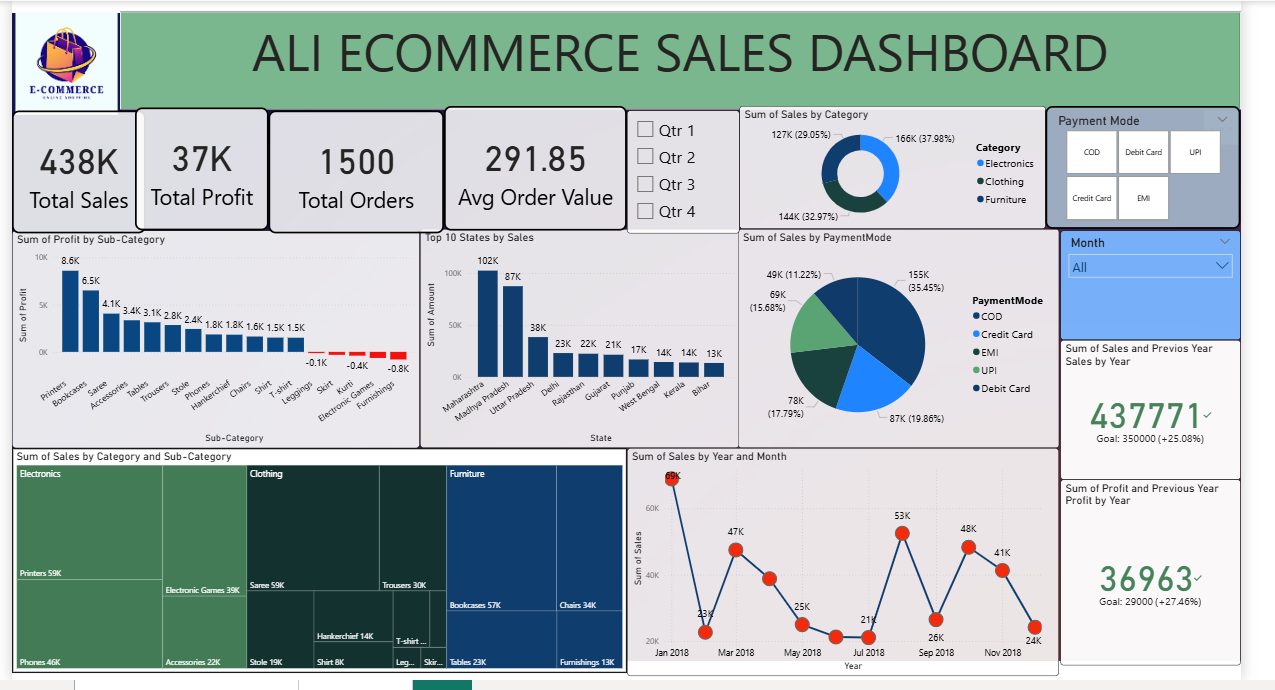

This screenshot's page, from the dashboard's own definition file:
{"tool":"powerbi","page":{"name":"SALES DASHBOARD","canvas":[1900,1050],"ordinal":0},"visuals":[{"type":"columnChart","title":"Top 10 States by Sales","fields":{"Category":["Orders.State"],"Y":["Sum(Details.Amount)"]},"box":[630.9,354.9,473.2,336.3],"z":0},{"type":"pieChart","fields":{"Category":["Details.PaymentMode"],"Y":["Sum(Details.Amount)"]},"box":[1104.1,354.9,468.6,336.3],"z":1000},{"type":"treemap","fields":{"Group":["Details.Category"],"Details":["Details.Sub-Category"],"Values":["Sum(Details.Amount)"]},"box":[0,686.6,879.1,352.6],"z":2000},{"type":"columnChart","fields":{"Category":["Details.Sub-Category"],"Y":["Sum(Details.Profit)"]},"box":[0,354.9,630.9,336.3],"z":3000},{"type":"slicer","title":"Month","fields":{"Values":["Orders.Month Name"]},"box":[1672.5,169.3,227.3,185.6],"z":4000},{"type":"textbox","box":[167,16.2,1732.8,150.8],"z":5000},{"type":"image","box":[0,9.3,167,178.6],"z":6000},{"type":"lineChart","fields":{"Y":["Sum(Details.Amount)"],"Category":["Orders.Order Date.Variation.Date Hierarchy.Year","Orders.Order Date.Variation.Date Hierarchy.Month"]},"box":[879.1,686.6,693.6,357.2],"z":7000},{"type":"donutChart","fields":{"Category":["Details.Category"],"Y":["Sum(Details.Amount)"]},"box":[1572.7,354.9,327.1,336.3],"z":8000},{"type":"card","fields":{"Values":["Sum(Details.Amount)"]},"box":[0,169.3,287.6,190.2],"z":9000},{"type":"card","fields":{"Values":["Sum(Details.Profit)"]},"box":[287.6,169.3,287.6,190.2],"z":10000},{"type":"card","fields":{"Values":["CountNonNull(Details.Order ID)"]},"box":[575.3,167,292.3,190.2],"z":11000},{"type":"slicer","fields":{"Values":["Details.PaymentMode"]},"box":[1357,164.7,315.5,194.8],"z":12000},{"type":"slicer","fields":{"Values":["Orders.Order Date.Variation.Date Hierarchy.Quarter"]},"box":[1169.1,169.3,187.9,185.6],"z":13000},{"type":"kpi","fields":{"Goal":["Orders.Previos Year Sales"],"Indicator":["Sum(Details.Amount)"],"TrendLine":["Orders.Order Date.Variation.Date Hierarchy.Year"]},"box":[1572.7,865.2,327.1,174],"z":14000},{"type":"kpi","fields":{"Indicator":["Sum(Details.Profit)"],"Goal":["Orders.Previous Year Profit"],"TrendLine":["Orders.Order Date.Variation.Date Hierarchy.Year"]},"box":[1572.7,686.6,327.1,178.6],"z":15000},{"type":"card","fields":{"Values":["Orders.Average Order Value"]},"box":[867.5,164.7,301.6,192.5],"z":16000}]}

Visuals, with their boxes in screenshot pixels (x1, y1, x2, y2), scaled from the page's 1900x1050 canvas onto the 1275x690 screenshot:
"Top 10 States by Sales" columnChart: <region>423, 233, 741, 454</region>
pieChart - Details.PaymentMode x Sum(Details.Amount): <region>741, 233, 1055, 454</region>
treemap - Details.Category x Details.Sub-Category: <region>0, 451, 590, 683</region>
columnChart - Details.Sub-Category x Sum(Details.Profit): <region>0, 233, 423, 454</region>
"Month" slicer: <region>1122, 111, 1274, 233</region>
textbox: <region>112, 11, 1274, 110</region>
image: <region>0, 6, 112, 123</region>
lineChart - Sum(Details.Amount) x Orders.Order Date.Variation.Date Hierarchy.Year: <region>590, 451, 1055, 686</region>
donutChart - Details.Category x Sum(Details.Amount): <region>1055, 233, 1274, 454</region>
card - Sum(Details.Amount): <region>0, 111, 193, 236</region>
card - Sum(Details.Profit): <region>193, 111, 386, 236</region>
card - CountNonNull(Details.Order ID): <region>386, 110, 582, 235</region>
slicer - Details.PaymentMode: <region>911, 108, 1122, 236</region>
slicer - Orders.Order Date.Variation.Date Hierarchy.Quarter: <region>785, 111, 911, 233</region>
kpi - Orders.Previos Year Sales x Sum(Details.Amount): <region>1055, 569, 1274, 683</region>
kpi - Sum(Details.Profit) x Orders.Previous Year Profit: <region>1055, 451, 1274, 569</region>
card - Orders.Average Order Value: <region>582, 108, 785, 235</region>
